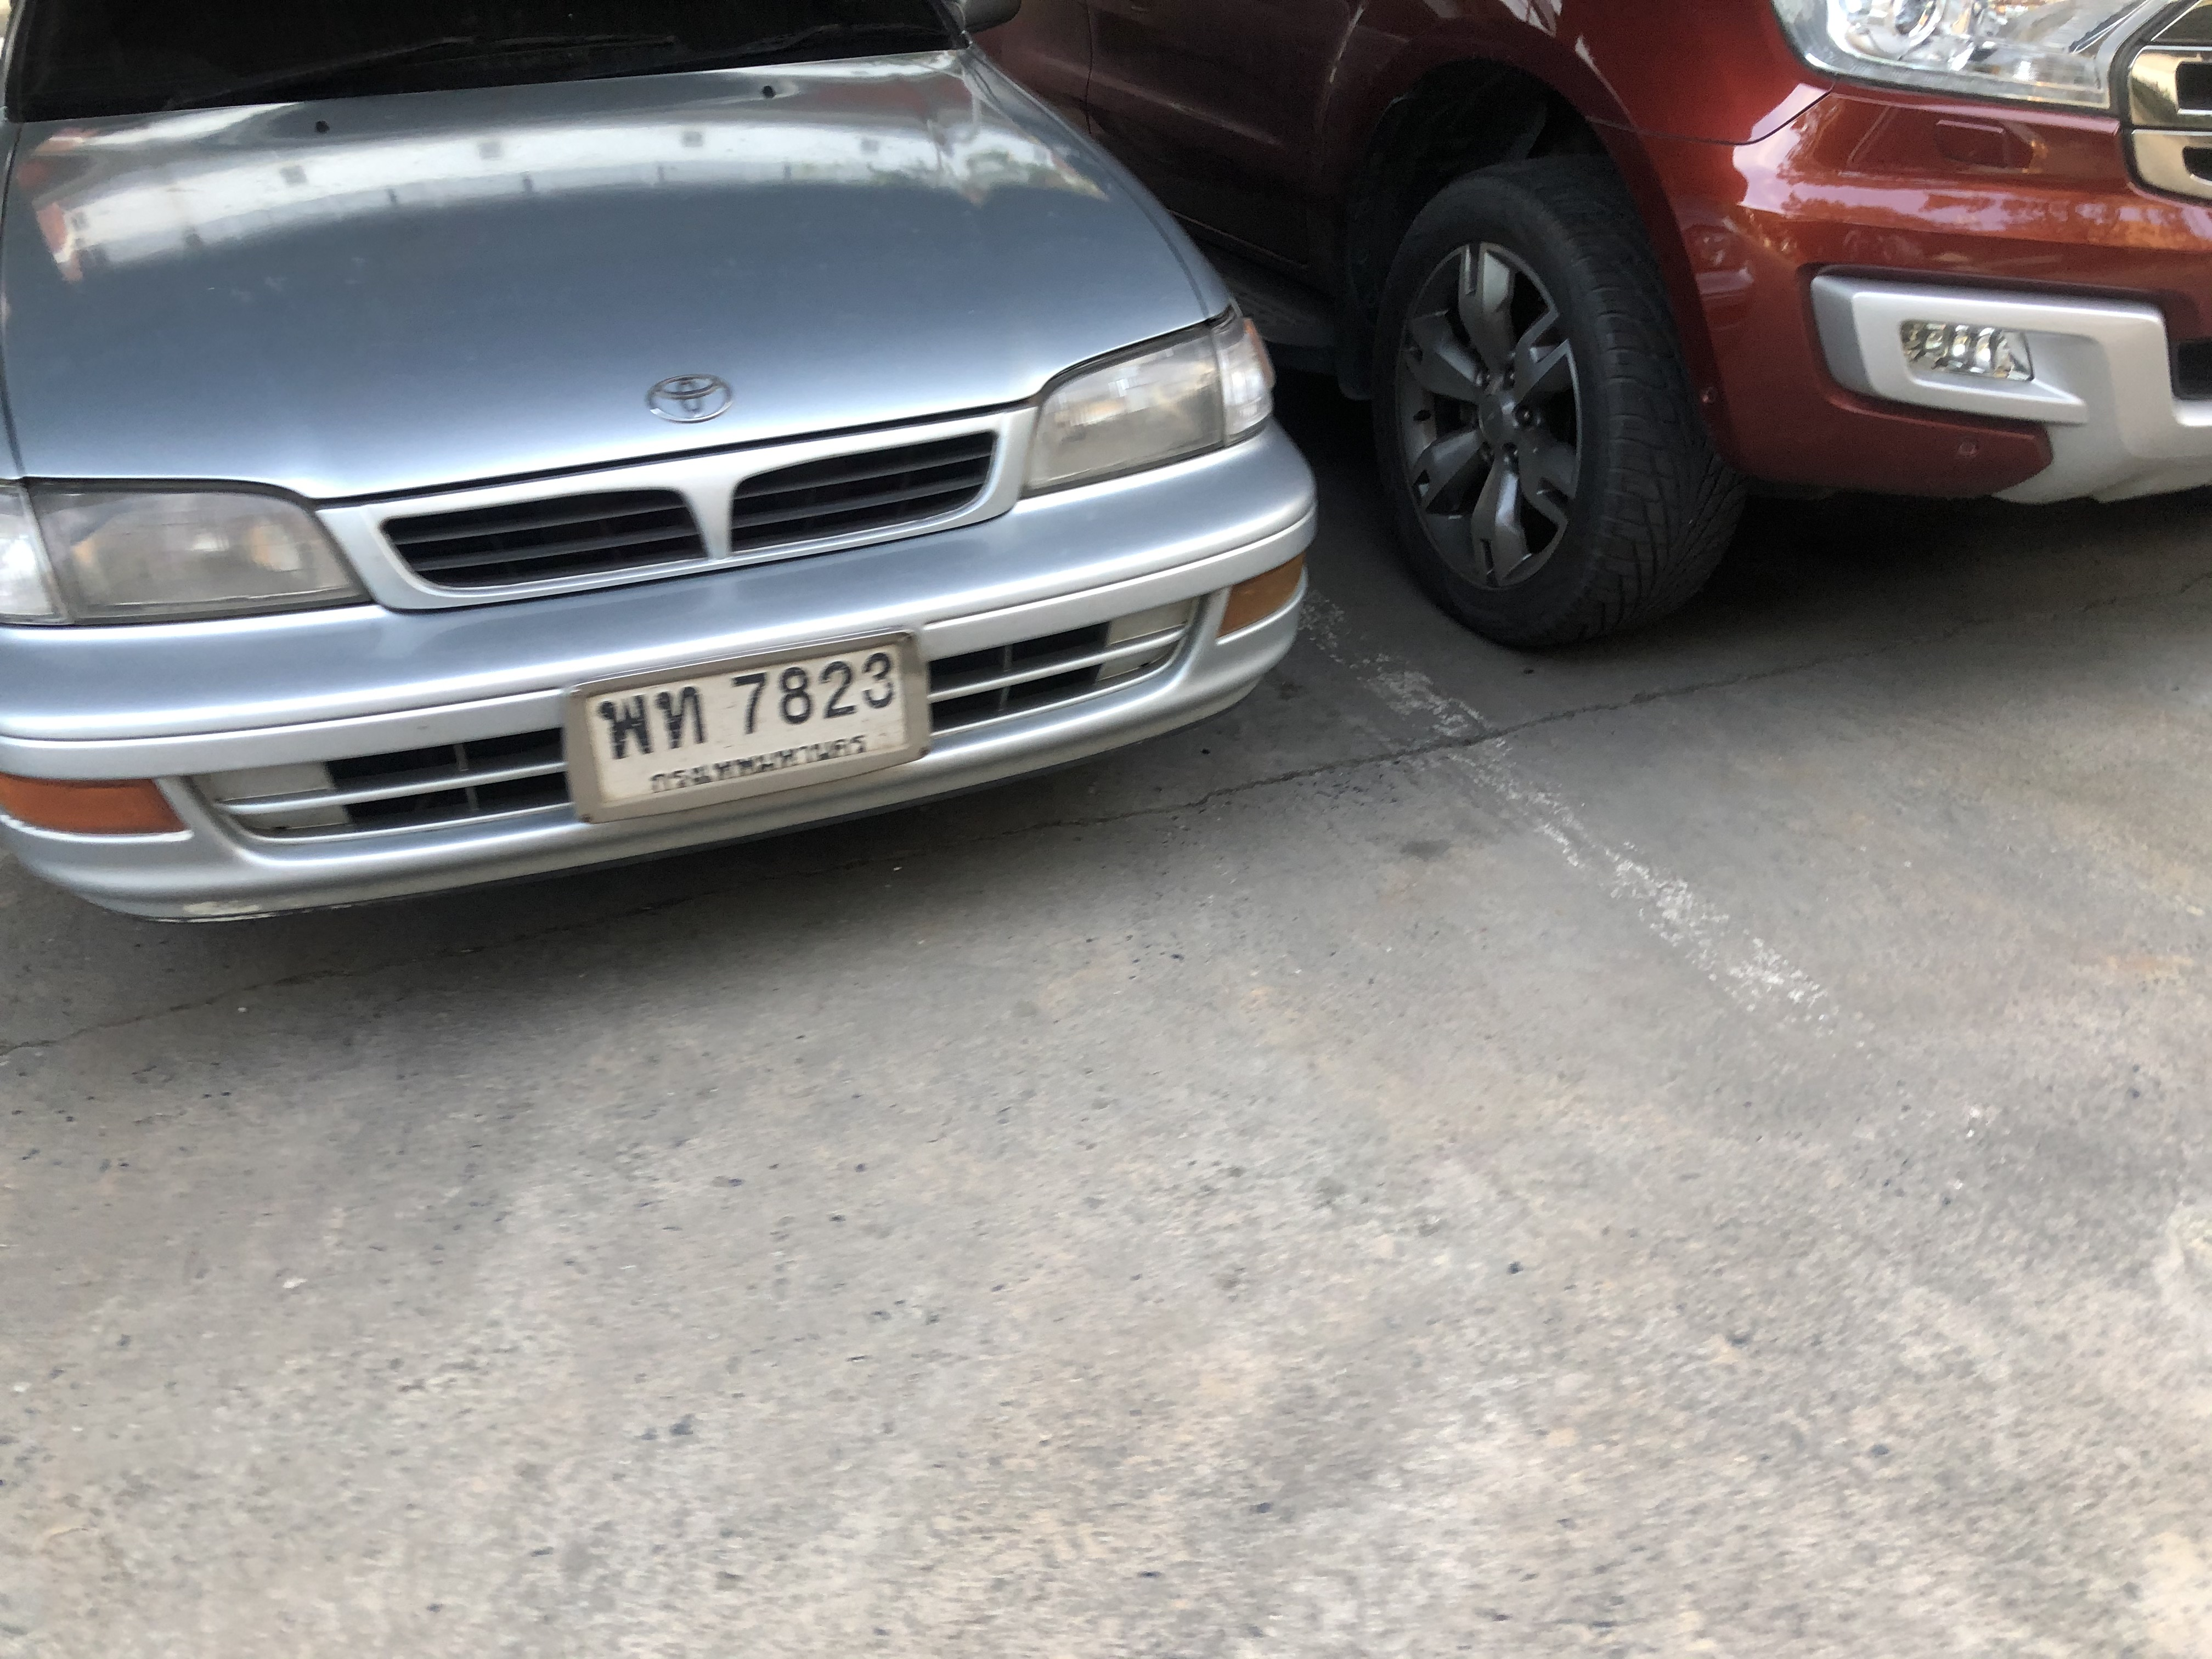in: (587, 643, 911, 795)
out: (559, 619, 937, 823)
